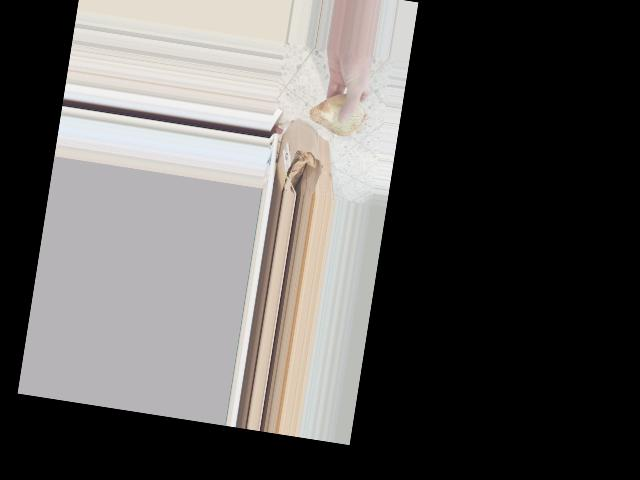onion: (306, 86, 371, 140)
